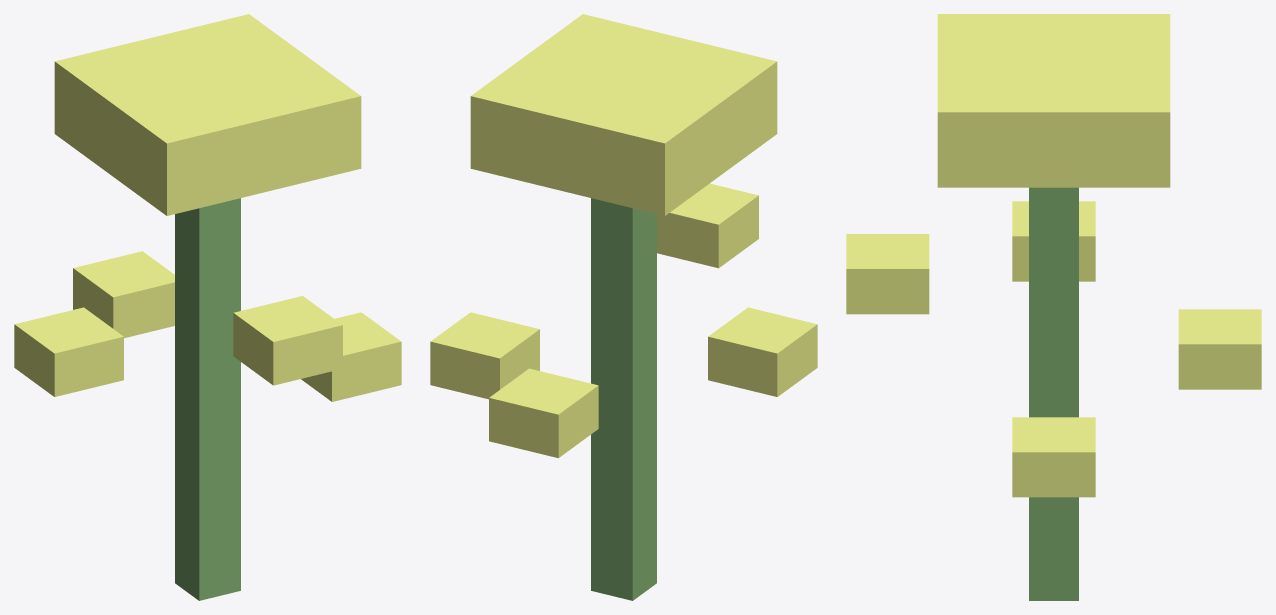
Rendered from Prop_DS_Herb_ParityPetal_S3_V1.glb.
3 renders of one model, left to right at view 1: azimuth 30°, elevation 25°; view 2: azimuth 150°, elevation 25°; view 3: azimuth 270°, elevation 25°, orthographic. The views are drawn at different scales.
Visible parts, largest first — view 1: Cube.005, Cube, Cube.004, Cube.003, Cube.002, Cube.001; view 2: Cube.005, Cube, Cube.003, Cube.002, Cube.001, Cube.004; view 3: Cube.005, Cube, Cube.001, Cube.002, Cube.004, Cube.003.
Part boxes in pixels (x1=…): Cube.005: x1=54, y1=14, x2=361, y2=215; Cube: x1=175, y1=198, x2=240, y2=600; Cube.004: x1=233, y1=296, x2=342, y2=385; Cube.003: x1=14, y1=307, x2=123, y2=396; Cube.002: x1=73, y1=251, x2=174, y2=338; Cube.001: x1=301, y1=312, x2=401, y2=401; Cube.005: x1=470, y1=14, x2=777, y2=215; Cube: x1=591, y1=198, x2=656, y2=600; Cube.003: x1=708, y1=307, x2=817, y2=396; Cube.002: x1=489, y1=368, x2=598, y2=458; Cube.001: x1=430, y1=312, x2=539, y2=399; Cube.004: x1=657, y1=183, x2=758, y2=268; Cube.005: x1=937, y1=14, x2=1170, y2=187; Cube: x1=1029, y1=187, x2=1078, y2=600; Cube.001: x1=1012, y1=417, x2=1095, y2=497; Cube.002: x1=1178, y1=309, x2=1261, y2=389; Cube.004: x1=846, y1=234, x2=929, y2=314; Cube.003: x1=1012, y1=201, x2=1095, y2=281.
Size of the model in its own units: 0.5 by 0.7 by 0.5.
